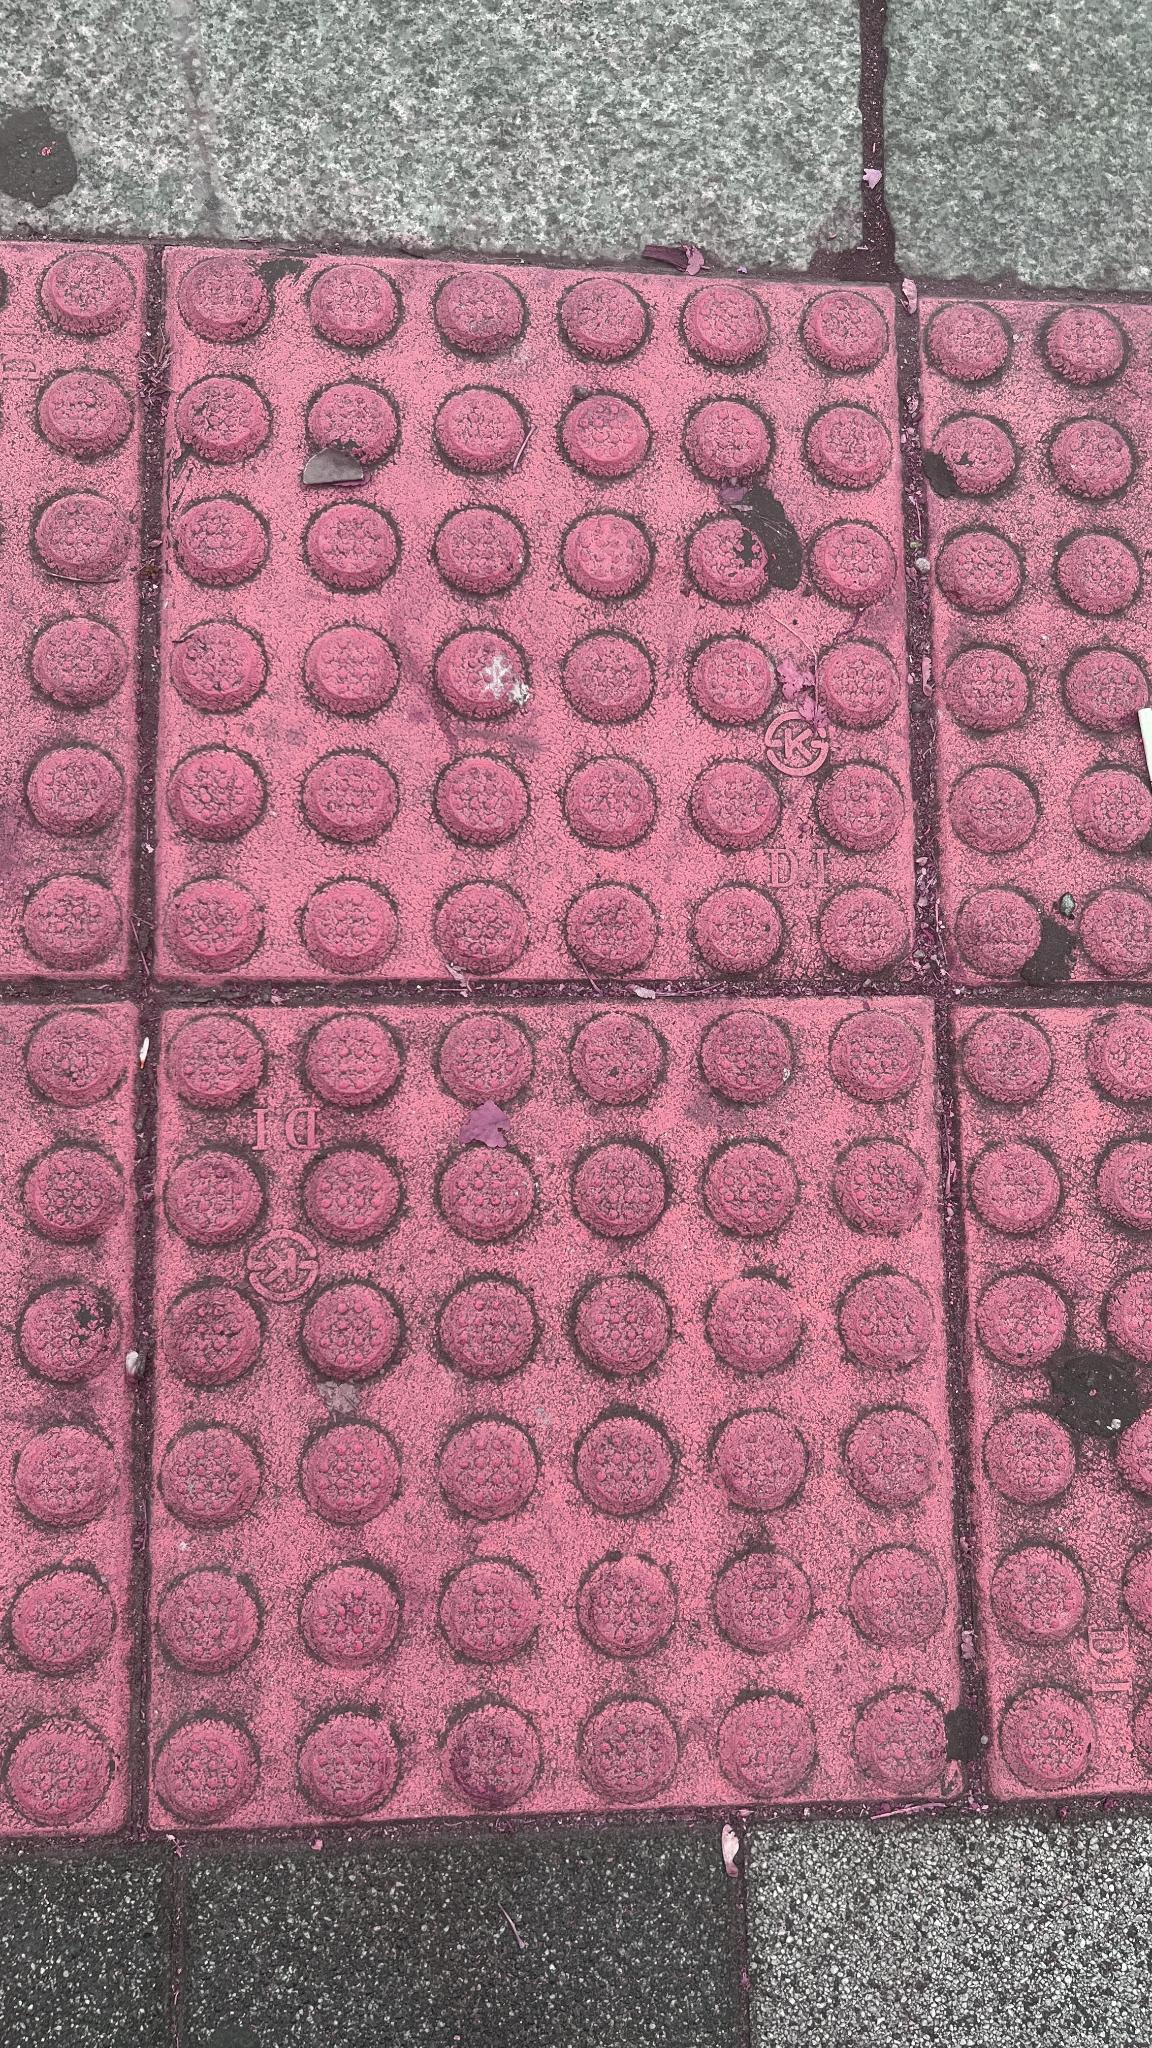Stop block normal: (160, 1004, 937, 1793)
